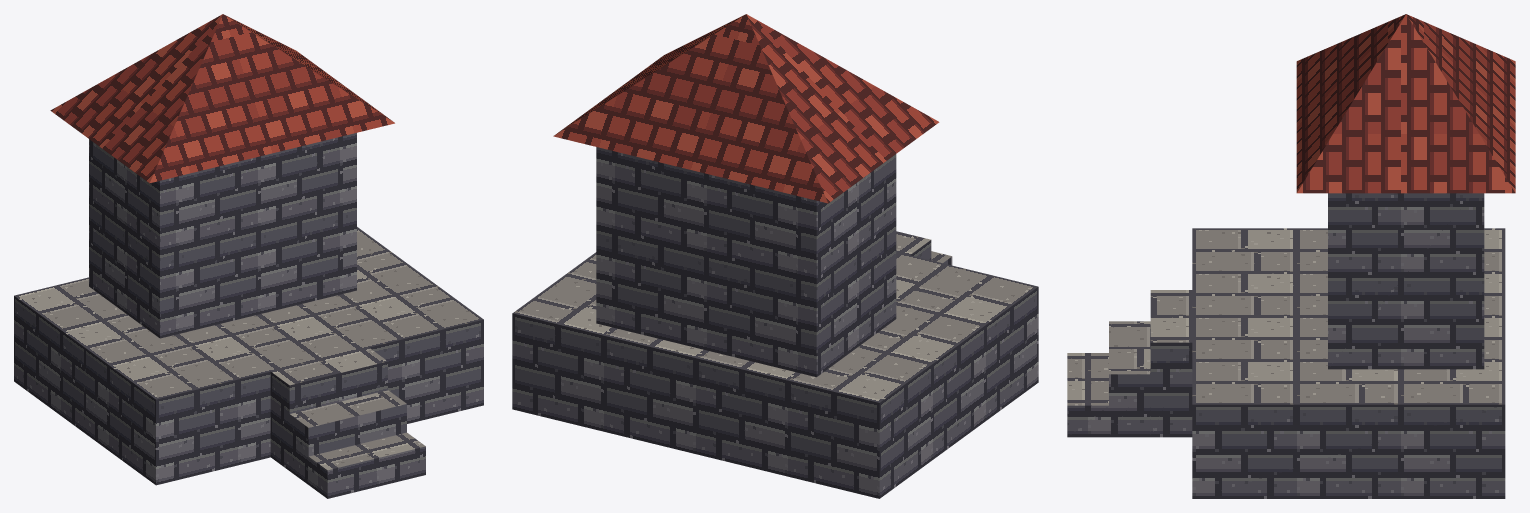
File: stone_outpost.glb
3 renders of one model, left to right at view 1: azimuth 30°, elevation 25°; view 2: azimuth 150°, elevation 25°; view 3: azimuth 270°, elevation 25°, orthographic. The views are drawn at different scales.
Parts seen in each view (by area): view 1: platform, hut, roof, step_2, step_1, step_0; view 2: platform, hut, roof, step_2; view 3: platform, roof, hut, step_2, step_1, step_0.
Part boxes in pixels (left/top/right/bottom): platform: left=14, top=227, right=483, bottom=485; hut: left=89, top=133, right=356, bottom=338; roof: left=50, top=14, right=394, bottom=183; step_2: left=270, top=347, right=387, bottom=470; step_1: left=289, top=390, right=406, bottom=484; step_0: left=308, top=432, right=425, bottom=498; platform: left=512, top=252, right=1038, bottom=498; hut: left=596, top=147, right=896, bottom=377; roof: left=553, top=14, right=939, bottom=203; step_2: left=896, top=231, right=931, bottom=260; platform: left=1192, top=228, right=1505, bottom=498; roof: left=1296, top=14, right=1515, bottom=193; hut: left=1328, top=193, right=1484, bottom=369; step_2: left=1150, top=290, right=1192, bottom=437; step_1: left=1109, top=321, right=1150, bottom=437; step_0: left=1067, top=353, right=1108, bottom=437.
Bounding box in the file's own units: 4 × 4.2 × 4.3.
3 materials, 3 textured.
